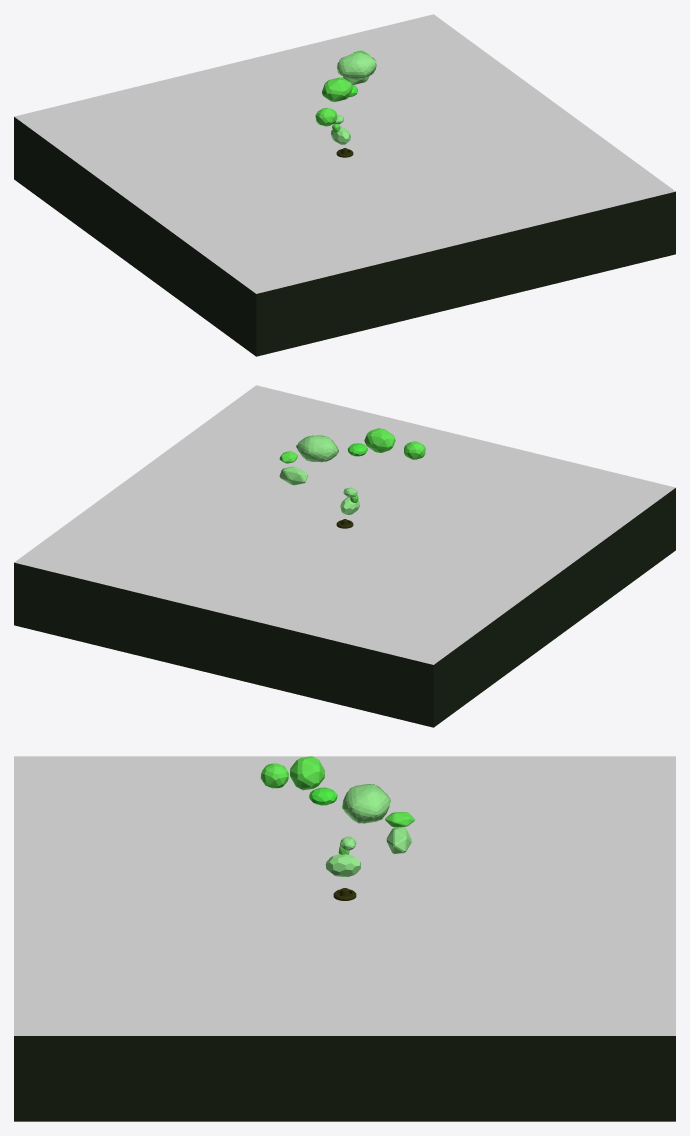
File: Schach.glb
3 renders of one model, top to bottom at view 1: azimuth 30°, elevation 25°; view 2: azimuth 150°, elevation 25°; view 3: azimuth 270°, elevation 25°, orthographic. The views are drawn at different scales.
Parts seen in each view (by area): view 1: Schachbrett, Blätter.001; view 2: Schachbrett, Blätter.001; view 3: Schachbrett, Blätter.001.
Boxes of the visible parts, bbox=[...] form: Schachbrett: bbox=[14, 14, 675, 356]; Blätter.001: bbox=[315, 50, 376, 144]; Schachbrett: bbox=[14, 385, 675, 727]; Blätter.001: bbox=[279, 428, 425, 514]; Schachbrett: bbox=[14, 756, 675, 1121]; Blätter.001: bbox=[260, 756, 414, 876].
Bounding box in the file's own units: 49 × 17.08 × 49.
